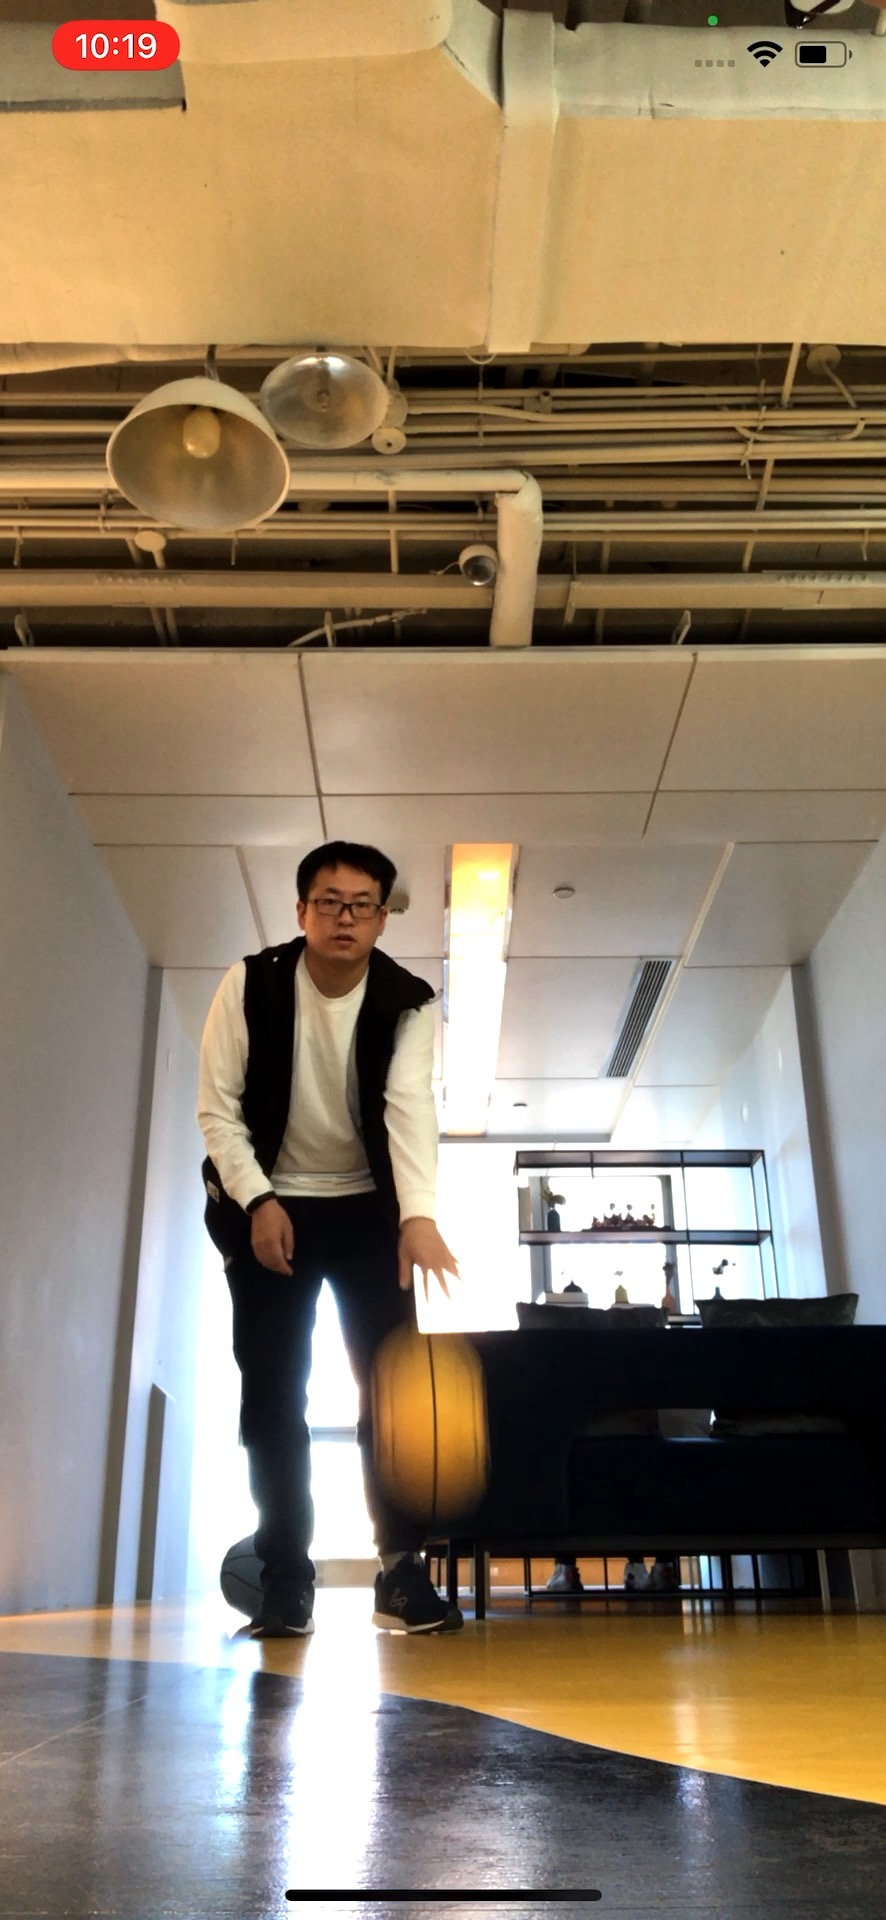ball: (372, 1335, 501, 1504)
